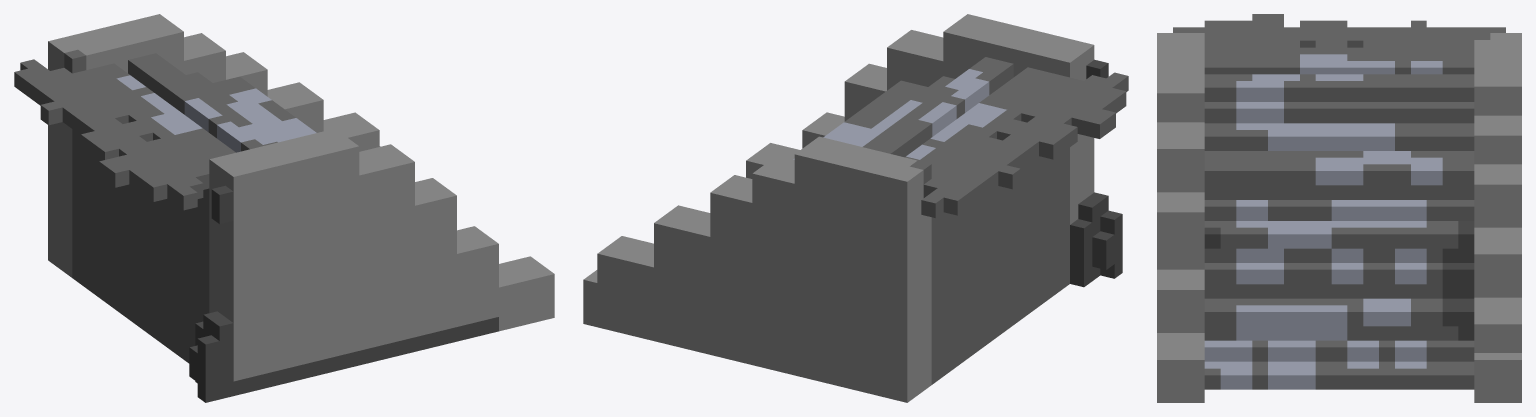
The model's file is Medieval Assets-231-Transition - Elevated Region Stairs Walkable.obj.
The picture shows the model from 3 angles, left to right: view 1: azimuth 30°, elevation 25°; view 2: azimuth 150°, elevation 25°; view 3: azimuth 270°, elevation 25°; orthographic projection. The views are drawn at different scales.
Visible parts, largest first — view 1: Transition - Elevated Region Stairs Walkable; view 2: Transition - Elevated Region Stairs Walkable; view 3: Transition - Elevated Region Stairs Walkable.
Boxes of the visible parts, bbox=[...] form: Transition - Elevated Region Stairs Walkable: bbox=[14, 14, 554, 402]; Transition - Elevated Region Stairs Walkable: bbox=[583, 14, 1128, 402]; Transition - Elevated Region Stairs Walkable: bbox=[1157, 14, 1521, 402].
Bounding box in the file's own units: 2.8 × 1.5 × 2.3.
1 material, 1 textured.
